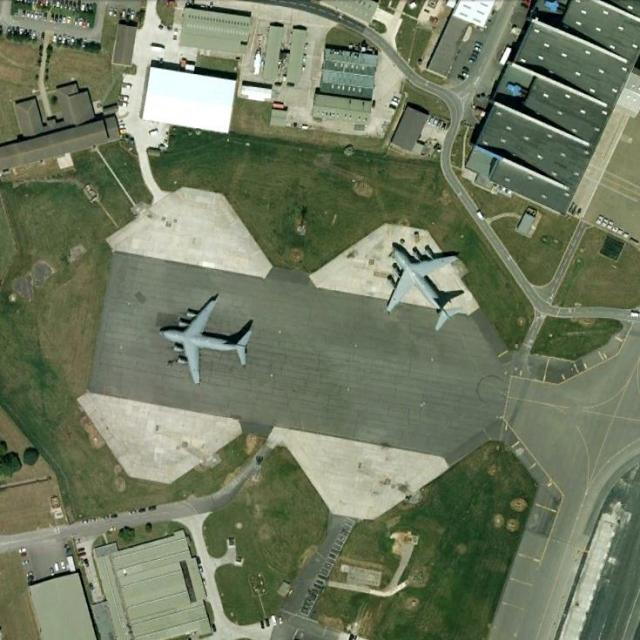fighter jet: (151, 298, 262, 376), (383, 237, 462, 328)
